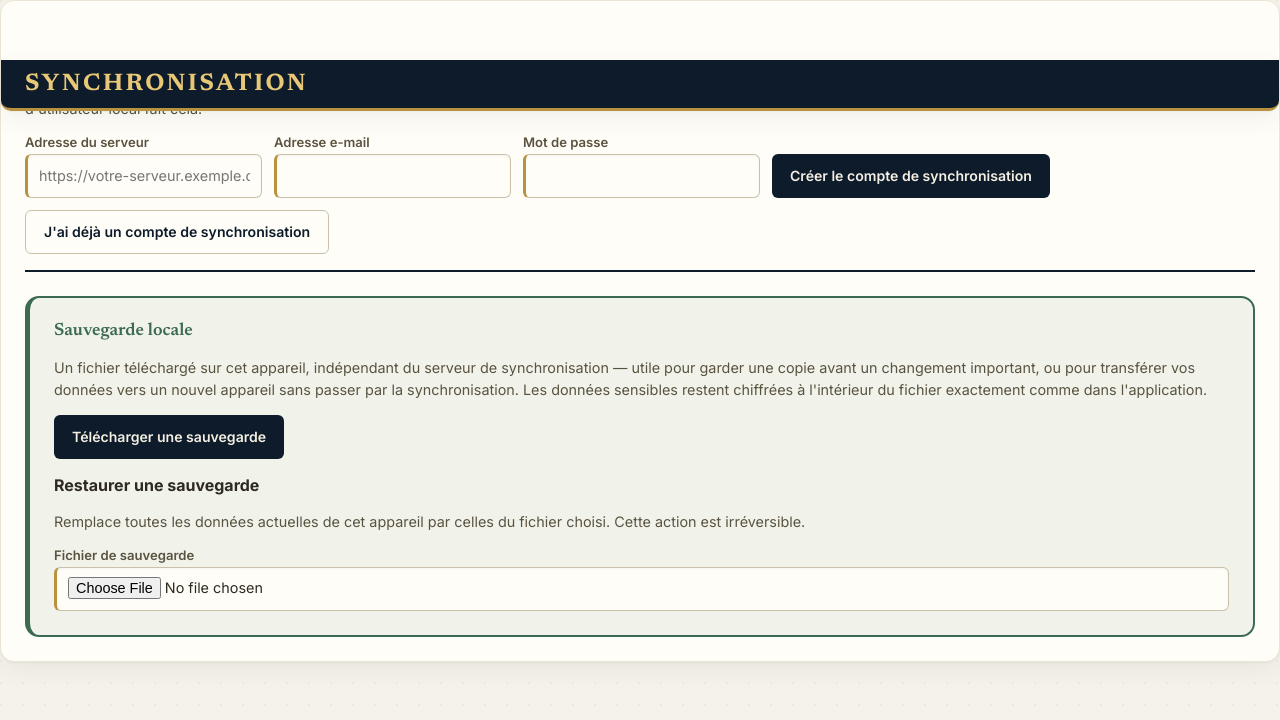
SyncPanel › shows an inline error when the server rejects the connection attempt
In the field labelled "Adresse du serveur": (144, 176) [25,154,262,198], type "https://sync.example.com"
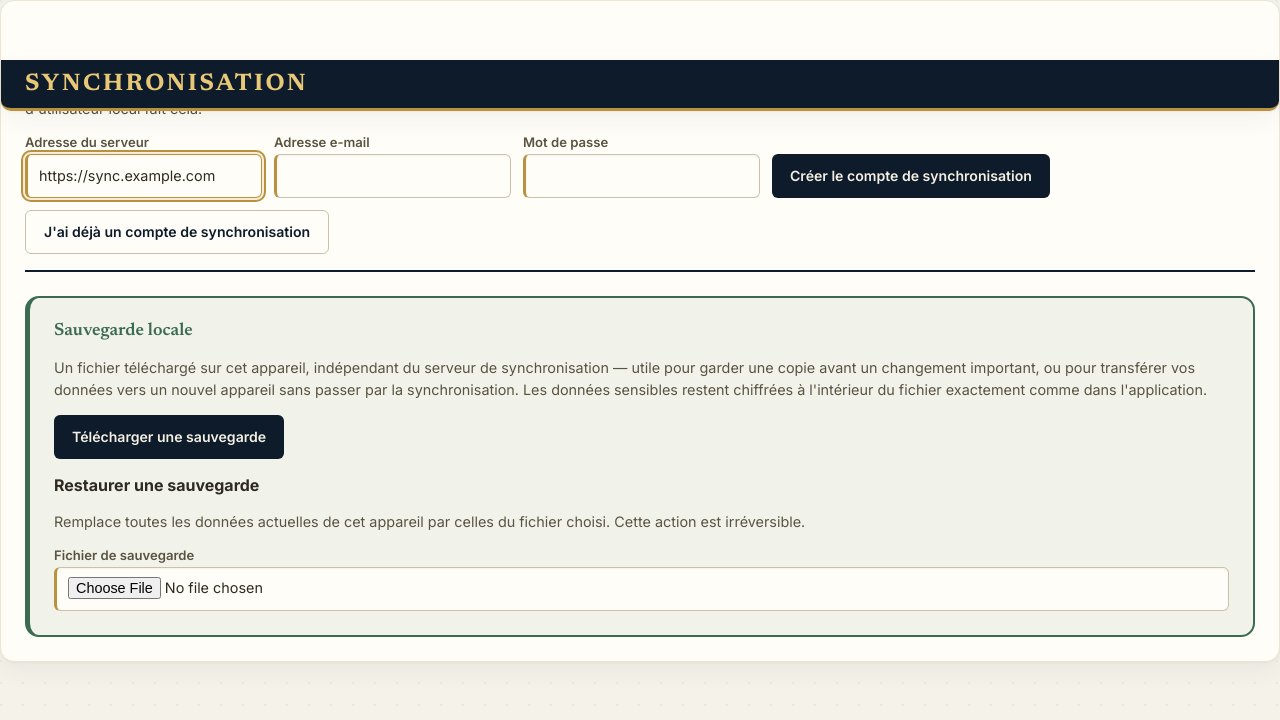
In the field labelled "Adresse e-mail": (392, 176) [274,154,511,198], type "peter@example.com"
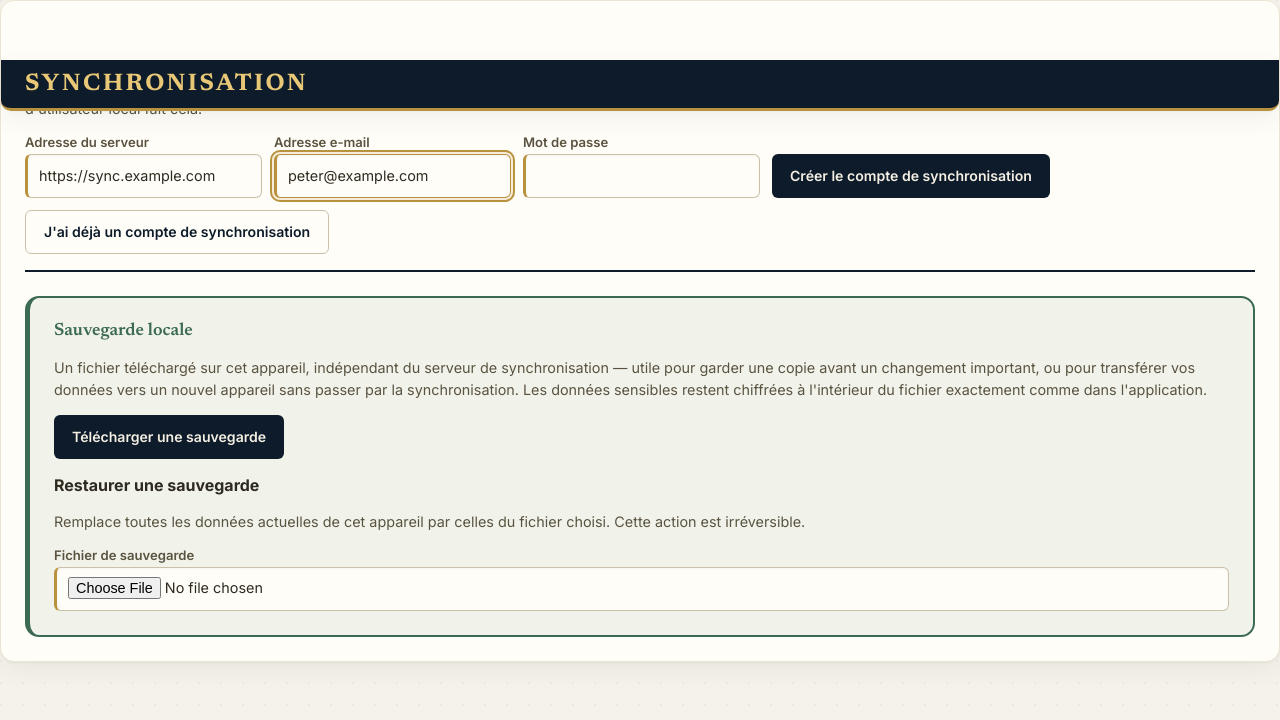
In the password field labelled "Mot de passe": (642, 176) [523,154,760,198], type "password123"
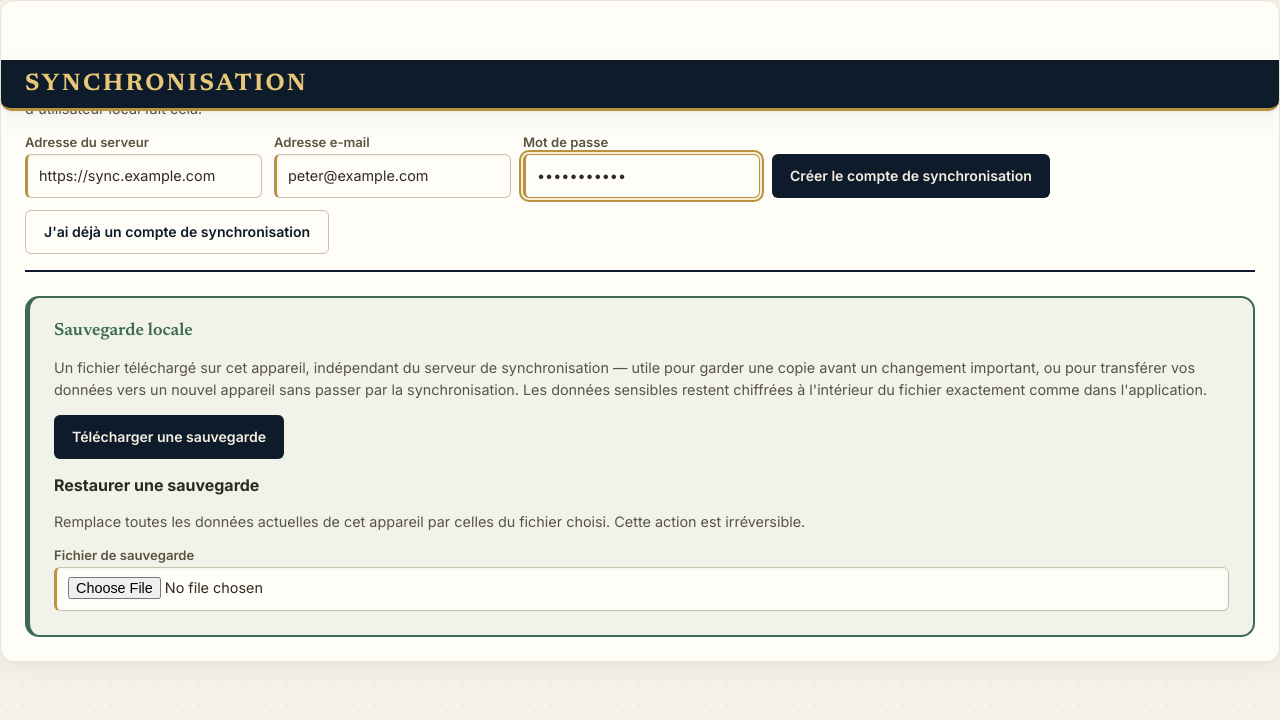
Click the button "Créer le compte de synchronisation": (911, 176) [772,154,1050,198]
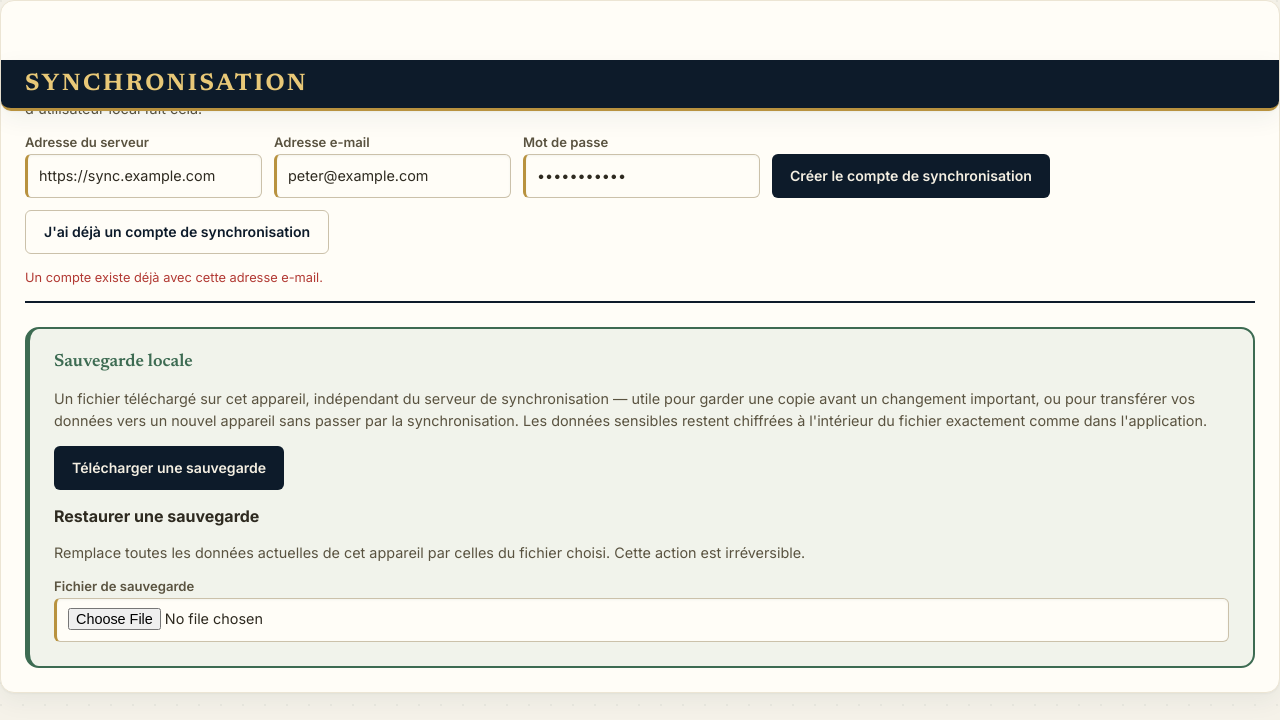
Check: the message shows "existe déjà", box [25,270,323,285]
